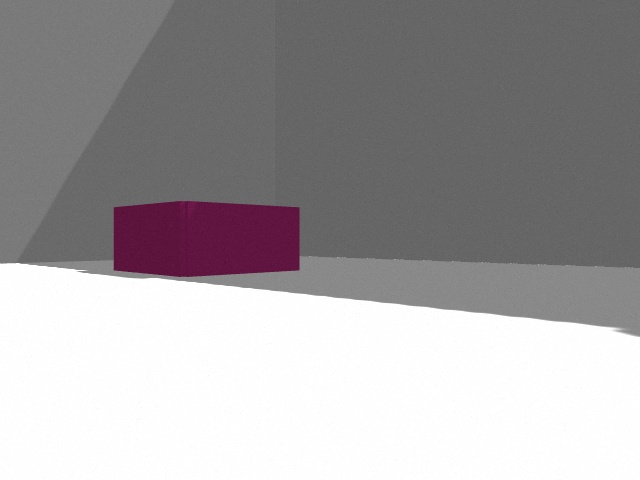red_drop_zone: (114, 201, 300, 277)
